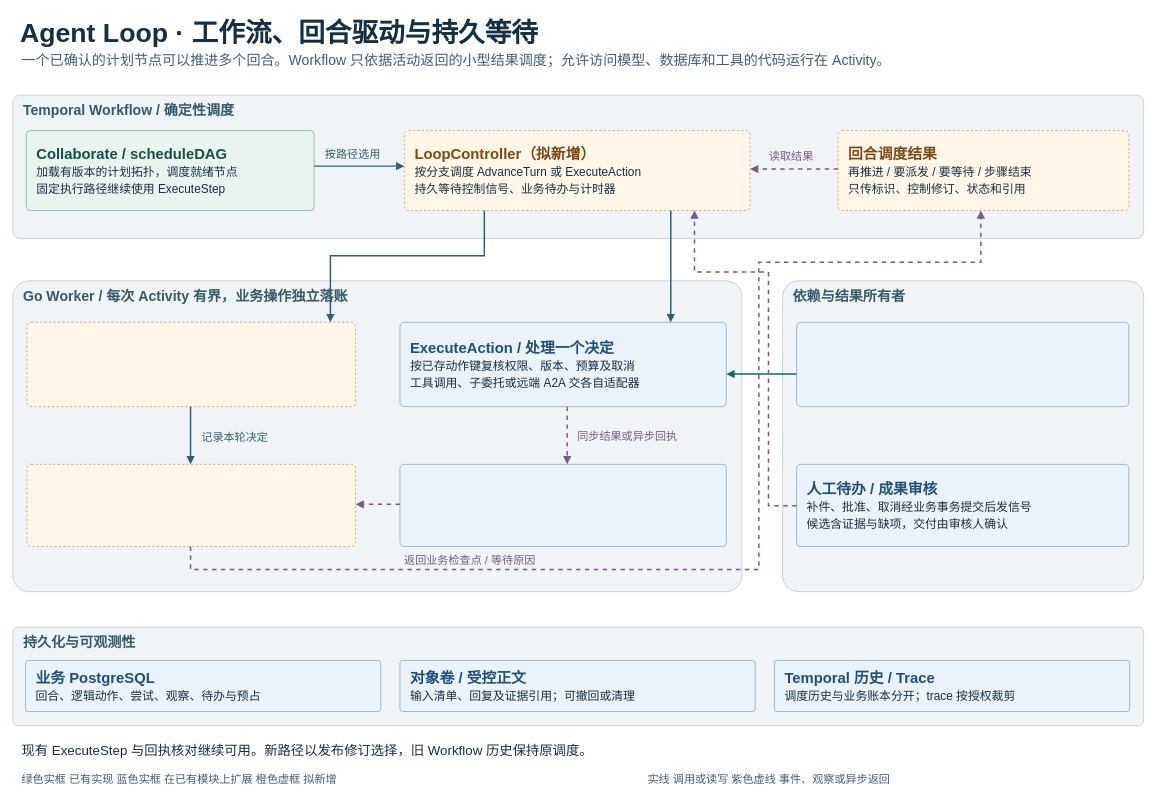
Image size: 1157x798. Some labels were removed from this diagram. Here are the shapes that lost their labels. From the top down, the centre of each, then its label:
the point at 191,364: AdvanceTurn / 推进一个模型回合 按分支与回合领取；先复用已存回复或决定 调用 Harness；需要推理时经 Runtime 预占
the point at 962,364: 构建、安全、记忆和资源目录 固定 Agent、Skill 和模型修订；使用前复权 缺失必要输入转等待，受限凭据仅在适配端
the point at 191,505: CommitTurn / 提交检查点 比较基准版本，消费观察并记录动作与游标 写入成功才允许下一次派发或返回终态
the point at 562,505: 观察与外部回执 绑定 action / attempt / call_id，异步保留任务号 可能已发而状态未知时进入核对
